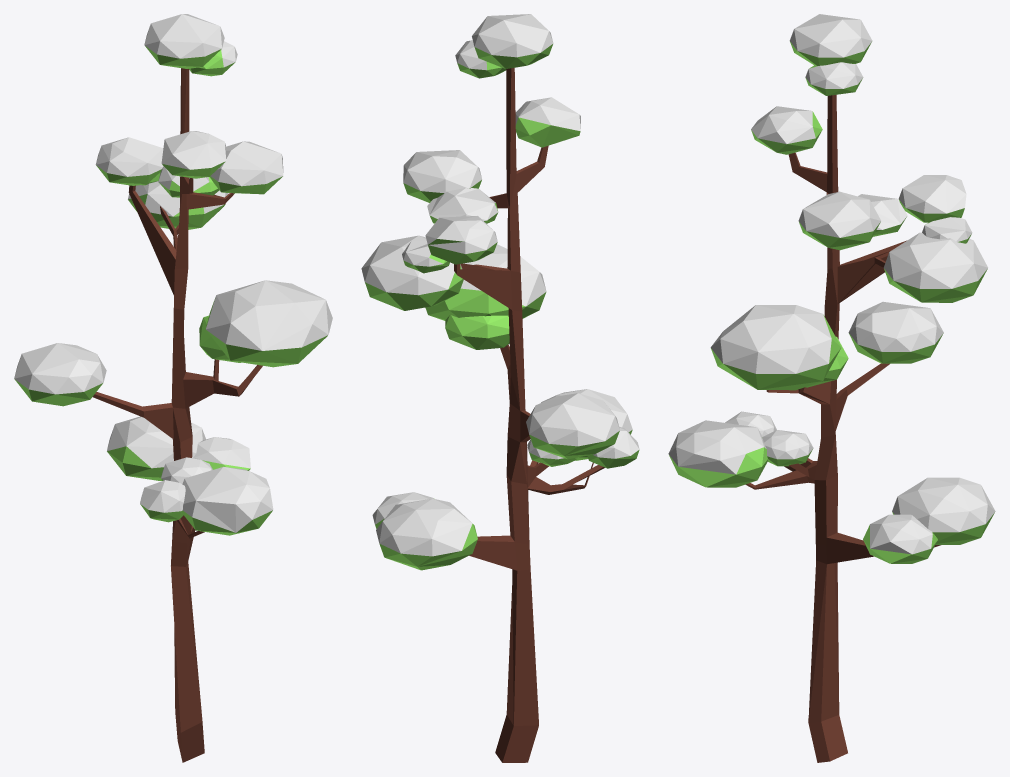
The model's file is SM_WinterTree_C.fbx.
3 renders of one model, left to right at view 1: azimuth 30°, elevation 25°; view 2: azimuth 150°, elevation 25°; view 3: azimuth 270°, elevation 25°, orthographic.
Visible parts, largest first — view 1: SM_WinterTree_C; view 2: SM_WinterTree_C; view 3: SM_WinterTree_C.
Boxes of the visible parts, bbox=[...] form: SM_WinterTree_C: bbox=[14, 14, 332, 762]; SM_WinterTree_C: bbox=[361, 14, 639, 762]; SM_WinterTree_C: bbox=[668, 14, 995, 762].
Size of the model in its own units: 139 by 405 by 162.
